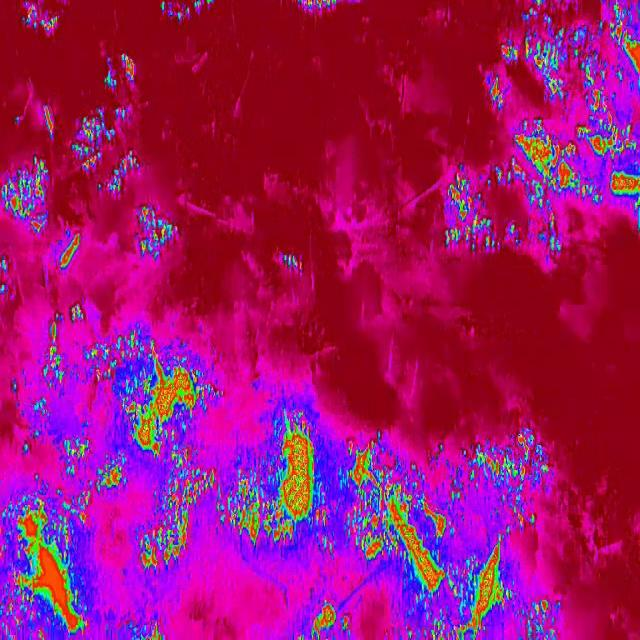fire: (214, 416, 568, 640), (0, 291, 215, 640), (444, 0, 639, 264), (0, 49, 181, 278), (15, 3, 63, 36), (156, 0, 216, 22), (293, 0, 340, 14)
